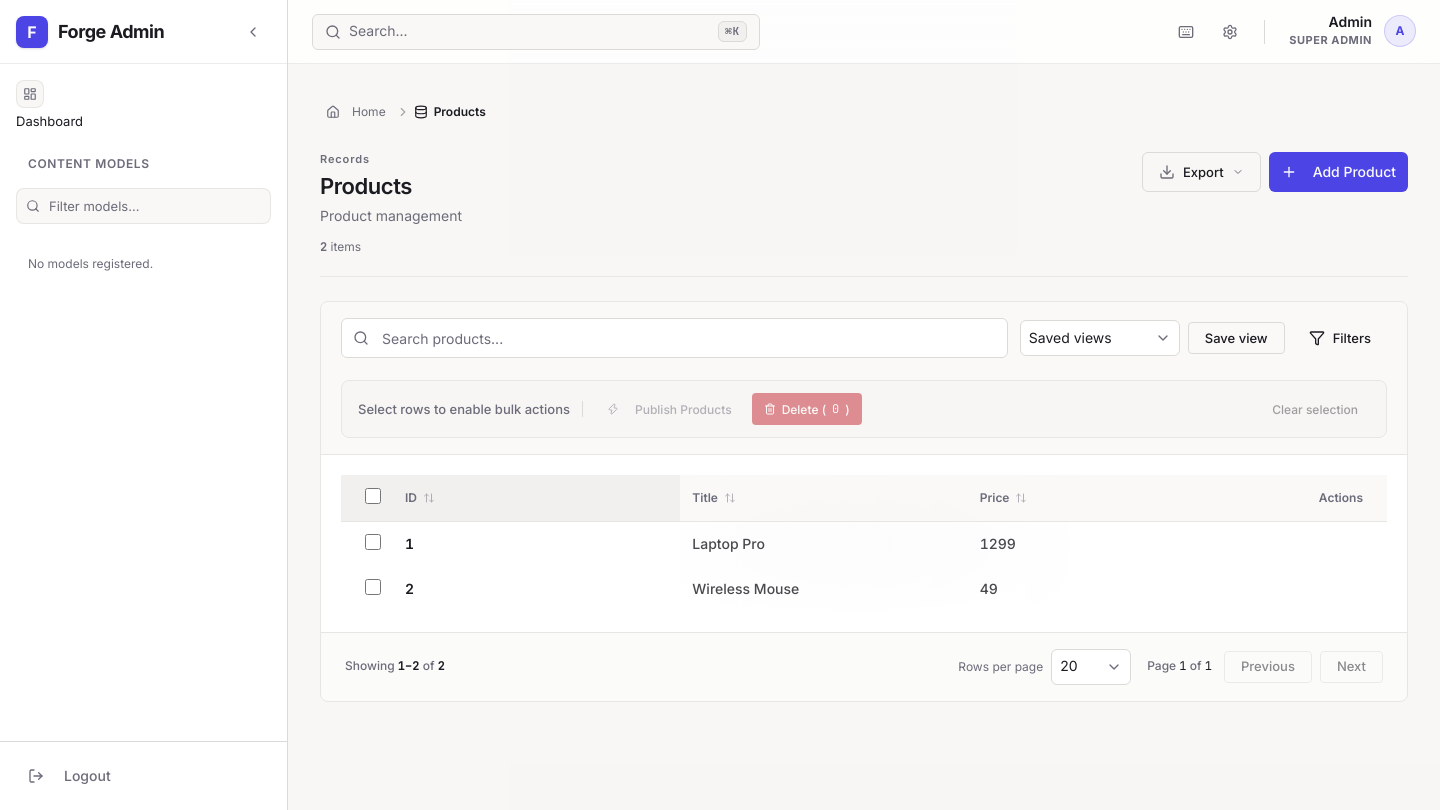
Test: ModelListPage › enables bulk actions when items are selected
Click the checkbox with test id "select-all": (373, 496) 365,488 -> 381,504
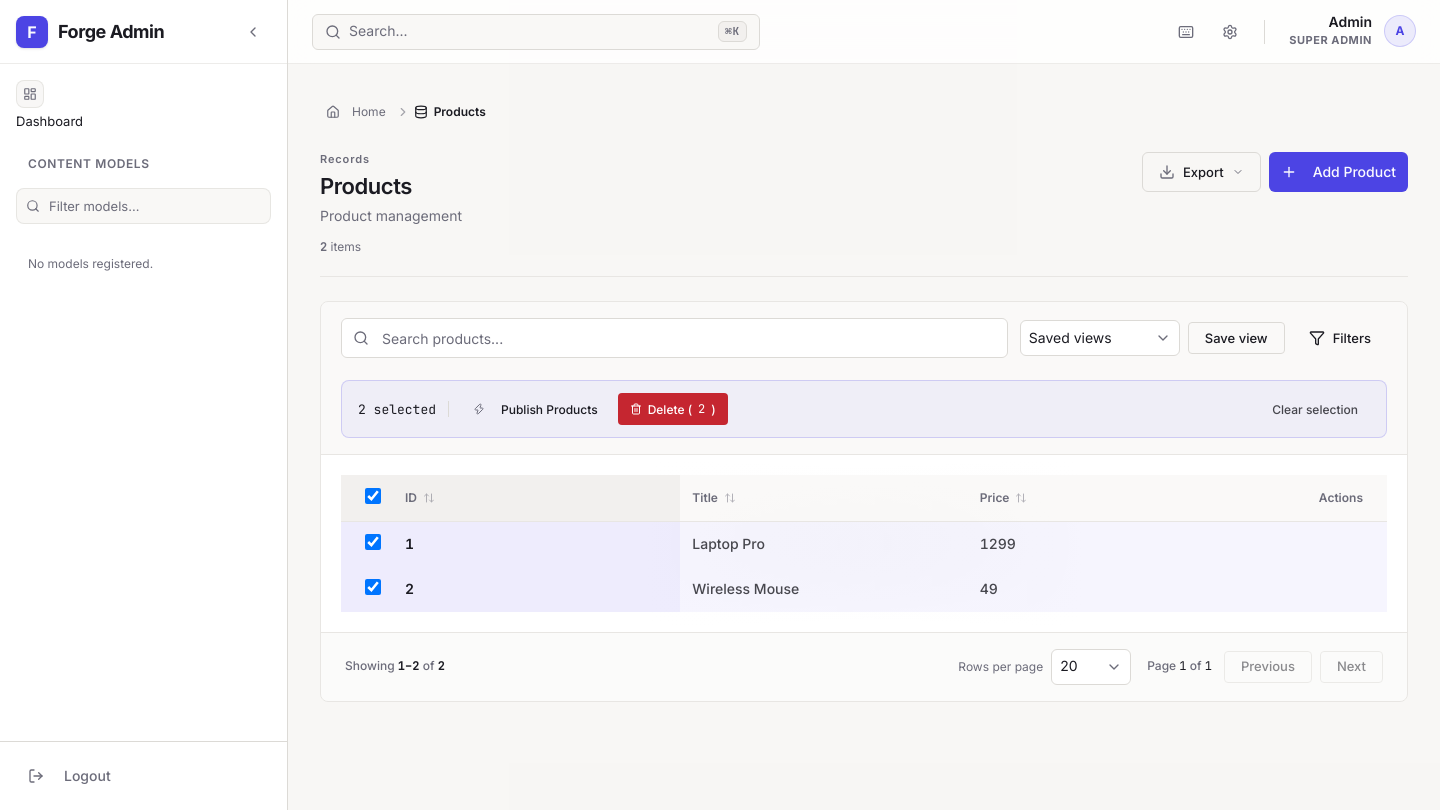
expect the text "2 selected" is shown: met, box 358,400 -> 436,418
